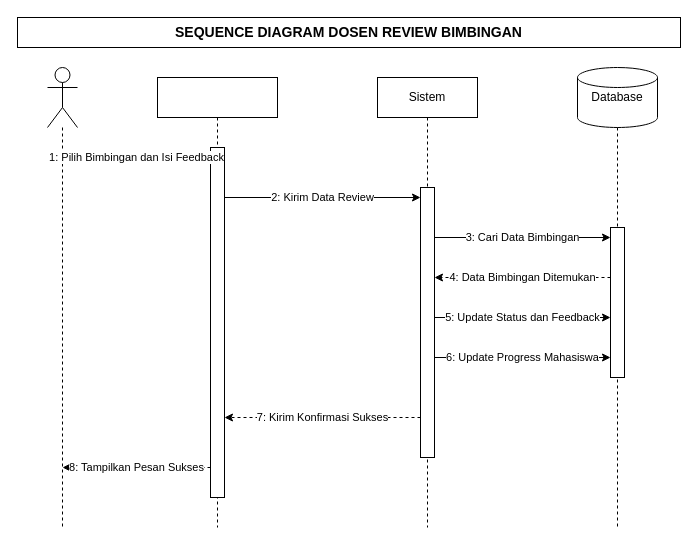
Image size: 698x546. Some labels were removed from this diagram. Each missing label, with the centre of its shape:
"Dosen" goes at pixel 62 97.
"Halaman Review" goes at pixel 217 97.
